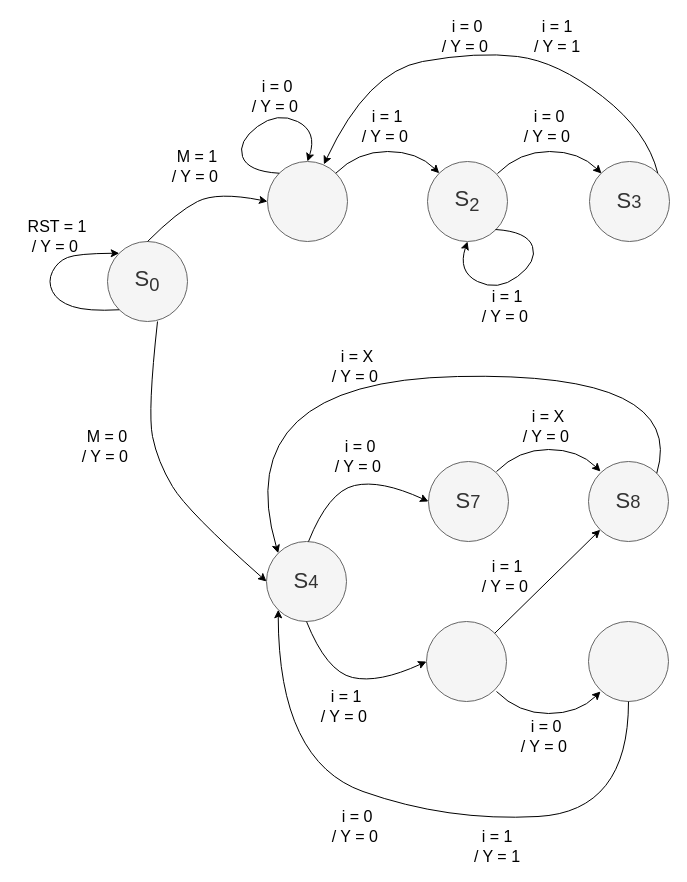
Some shapes in this 687 by 882 pixel diagram are drawn without their labels. Here are the shapes that lost their labels. From the top down, the centre of each, then its label:
the point at 307,201: S 1
the point at 466,661: S 5
the point at 628,661: S 6
